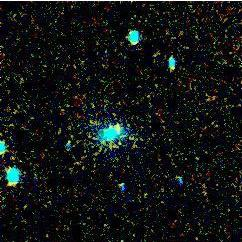star: (103, 112, 133, 142)
